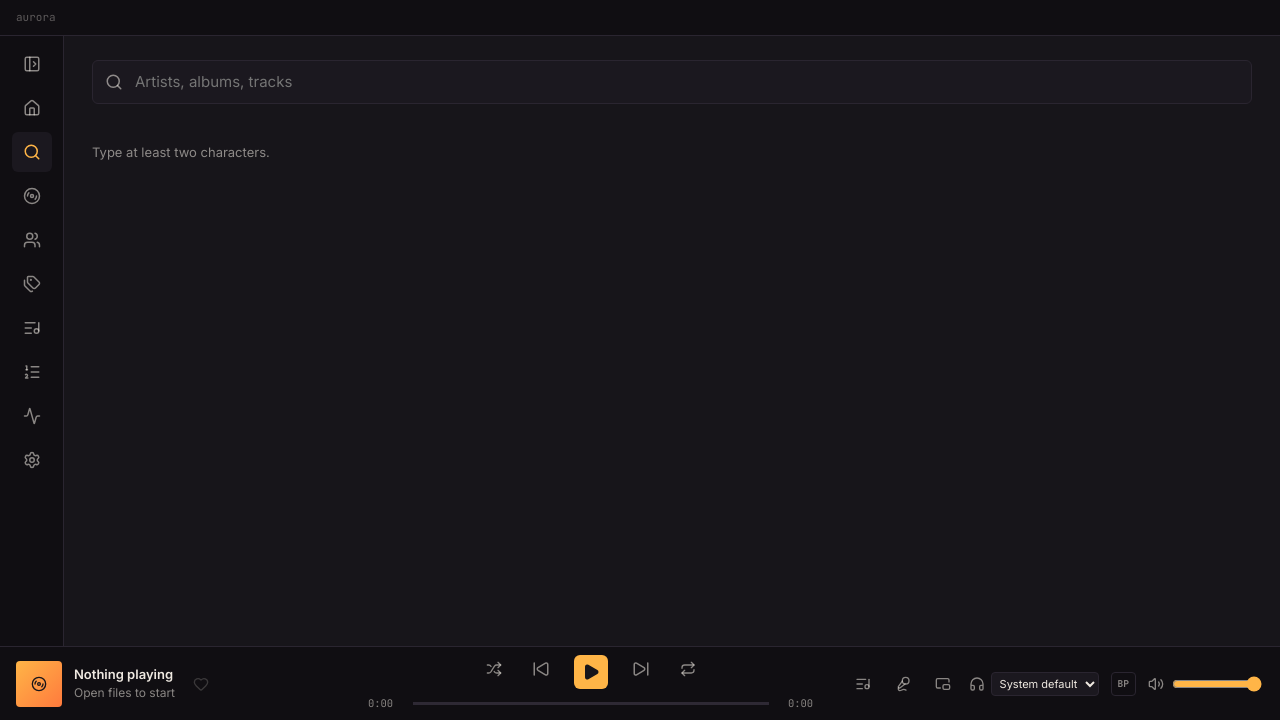
it: search view › searches as you type and groups the results
Type "a" into the search field named "Search".
click(686, 82); type("a")  # box [133,70,1239,94]
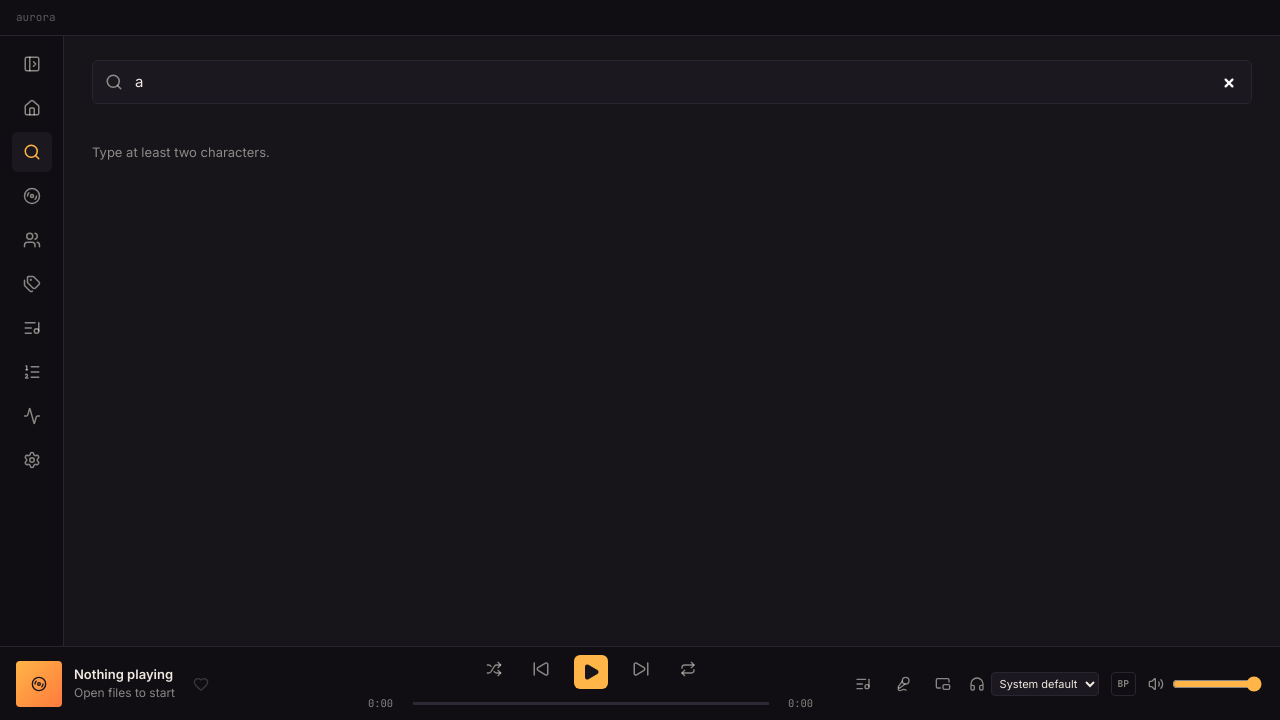
Expected: the text "Type at least two characters." is shown, [92,144,270,160]
Replace the text in the search field named "Search" with "alp" at {"x": 686, "y": 82}, box [133,70,1239,94]
(page scrolled)
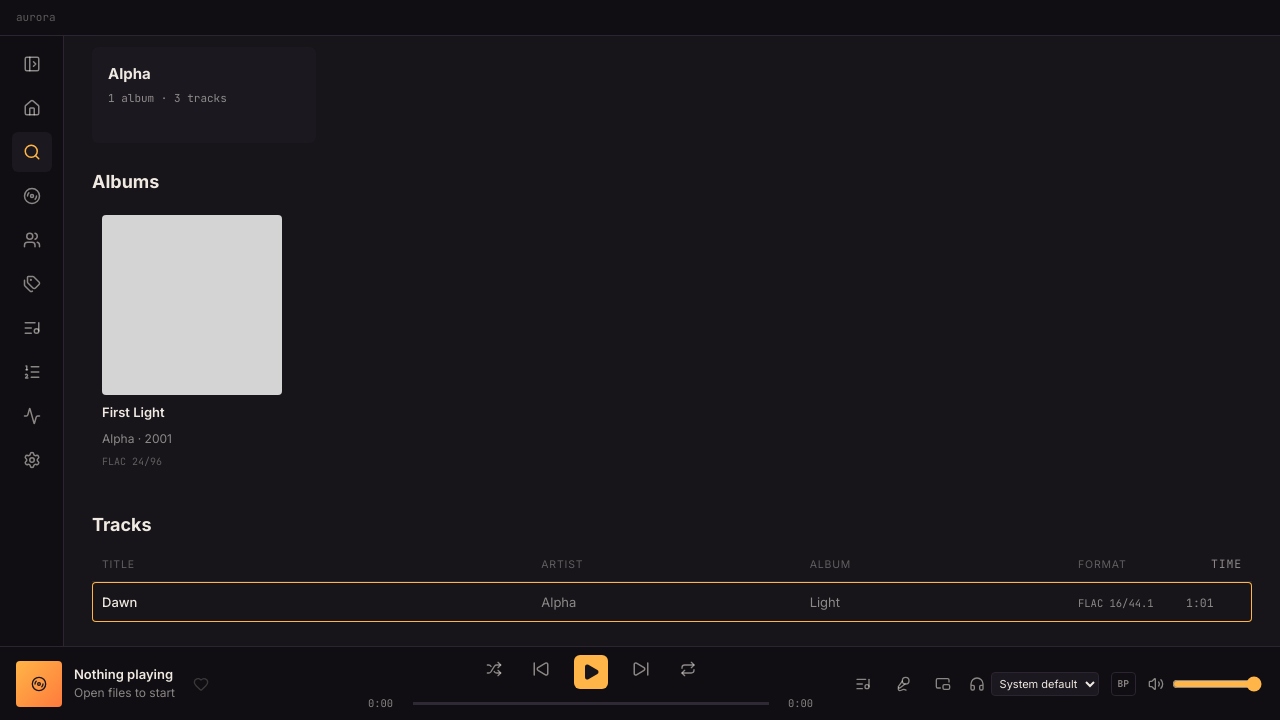
Expected: the link "First Light" is shown, [102,404,165,420]
Expected: the text "Dawn" is shown, [102,594,137,610]
